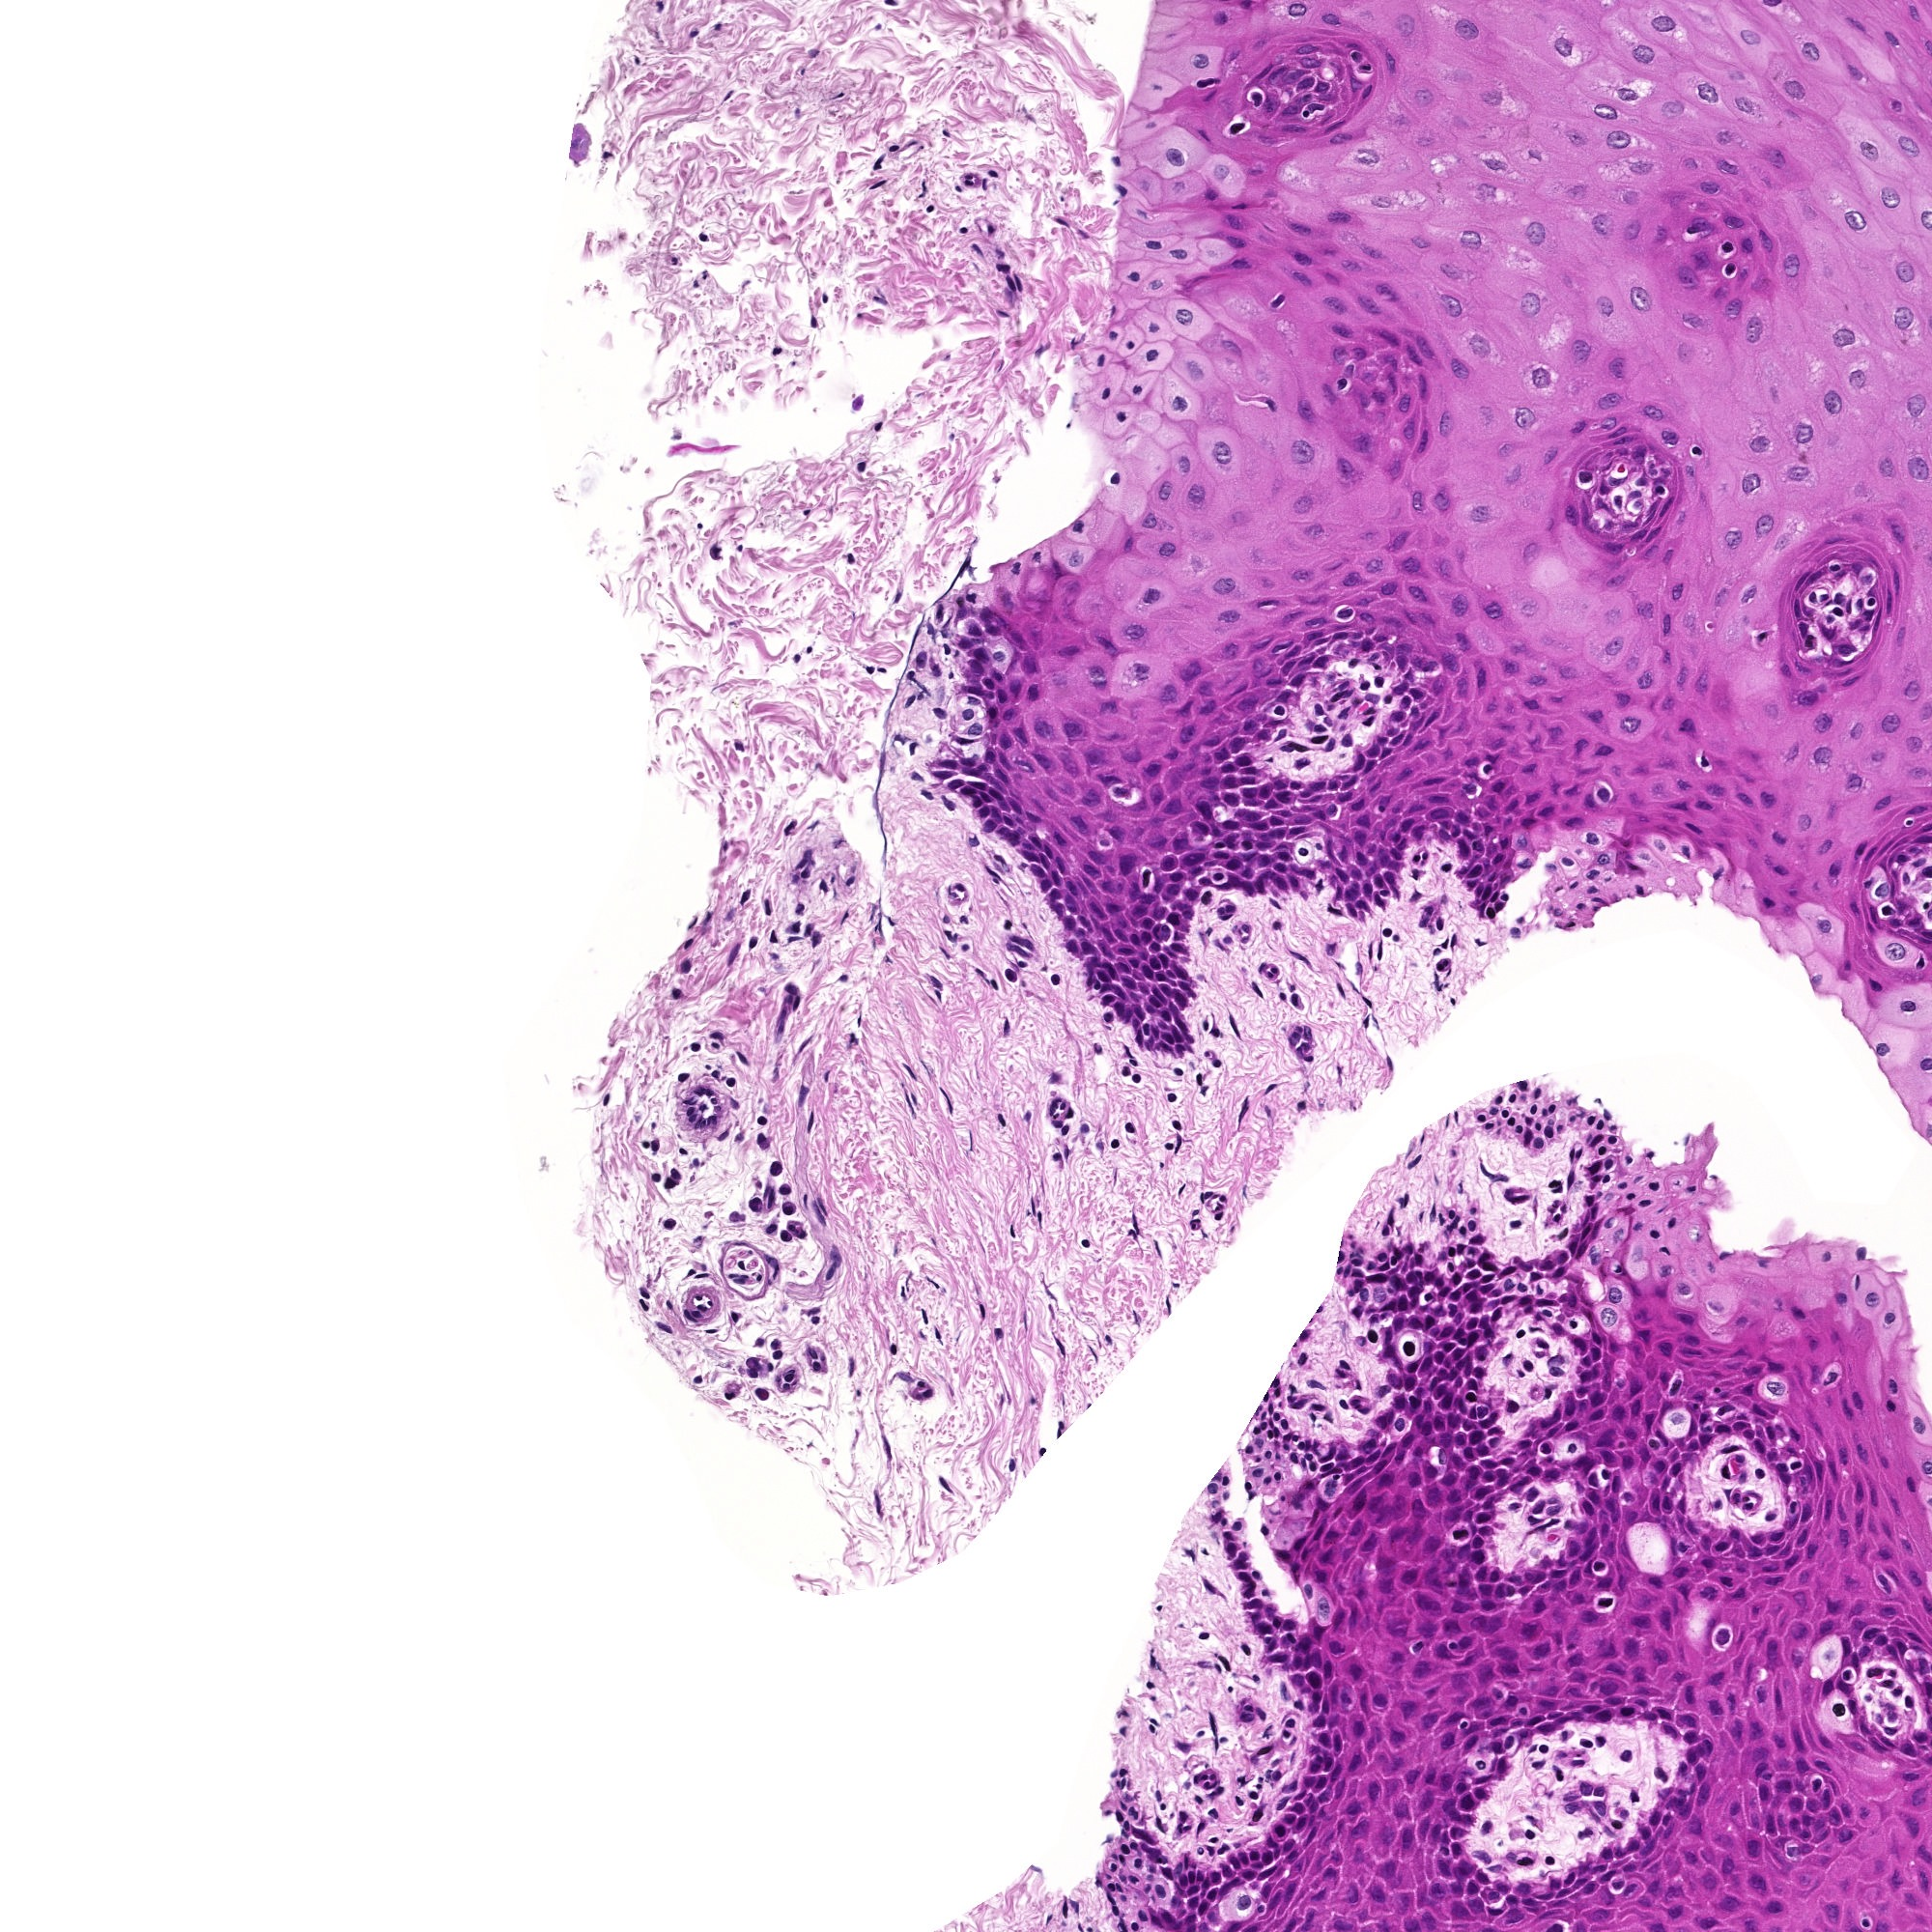epithelial: (1088, 869, 1093, 874), (1677, 807, 1684, 810), (1465, 28, 1468, 34), (1888, 598, 1891, 603), (1822, 754, 1826, 759), (1743, 798, 1746, 801), (1688, 724, 1691, 727), (1474, 872, 1479, 874), (1822, 720, 1824, 725), (1614, 644, 1615, 649), (1663, 23, 1665, 27), (1295, 226, 1299, 228), (1302, 258, 1304, 262), (1734, 219, 1736, 223), (1767, 242, 1769, 246), (1152, 244, 1155, 246), (1300, 449, 1302, 453), (1405, 402, 1407, 405), (1295, 649, 1297, 653), (1320, 658, 1323, 660), (1437, 796, 1438, 800), (1247, 793, 1251, 794), (1102, 975, 1104, 978), (1053, 893, 1056, 895), (1654, 1184, 1656, 1187), (1472, 1322, 1474, 1325), (1863, 1453, 1865, 1456), (1665, 1348, 1668, 1350), (1907, 1003, 1909, 1007), (1261, 73, 1263, 74), (1534, 235, 1536, 237), (1336, 304, 1338, 306), (1300, 506, 1302, 508), (1152, 594, 1154, 596), (1652, 533, 1654, 534), (1665, 504, 1667, 506), (1766, 522, 1767, 524), (1881, 801, 1882, 803), (1203, 828, 1205, 830), (1097, 909, 1099, 911), (1154, 1001, 1155, 1003), (1548, 1131, 1550, 1132), (1451, 1251, 1453, 1253), (1327, 1465, 1329, 1467), (1380, 1467, 1382, 1468), (1587, 1506, 1589, 1507), (1231, 1548, 1233, 1550), (1872, 1299, 1874, 1300), (1624, 699, 1626, 701)
fibroblast and endothelial: (1343, 1364, 1346, 1369), (1208, 1583, 1212, 1589), (962, 741, 970, 743), (1316, 706, 1320, 709), (1916, 860, 1920, 863), (828, 1272, 832, 1276), (1520, 1196, 1523, 1200), (810, 1120, 812, 1125), (1233, 1023, 1235, 1028), (1010, 281, 1012, 285), (1019, 281, 1021, 285), (915, 775, 916, 778), (948, 801, 950, 805), (973, 840, 975, 844), (752, 941, 754, 945), (959, 886, 961, 890), (1330, 909, 1334, 911), (1905, 878, 1907, 881), (1444, 943, 1445, 947), (681, 1077, 685, 1079), (801, 1093, 803, 1097), (1217, 1217, 1219, 1221), (1562, 1233, 1566, 1235), (1552, 1522, 1555, 1523), (1297, 1405, 1299, 1408), (1362, 1410, 1366, 1412), (876, 184, 878, 186), (1062, 221, 1063, 223), (791, 938, 793, 939), (1224, 916, 1226, 918), (1318, 740, 1320, 741), (1380, 954, 1382, 955), (1215, 1033, 1217, 1035), (909, 1070, 911, 1072), (1269, 1088, 1270, 1090), (1157, 1249, 1159, 1251), (1484, 1171, 1486, 1173), (1548, 1392, 1550, 1394), (1534, 1520, 1536, 1522), (941, 1483, 943, 1484), (1212, 1723, 1214, 1725)
inflammatory: (1008, 973, 1012, 978), (1511, 1405, 1514, 1410), (1583, 1741, 1589, 1744), (1203, 895, 1207, 899), (1440, 964, 1444, 968), (1384, 1230, 1387, 1233), (732, 1316, 736, 1320), (752, 1373, 755, 1376), (1407, 1348, 1412, 1350), (1484, 1826, 1486, 1831), (775, 350, 778, 352), (920, 656, 922, 660), (676, 991, 678, 994), (655, 1146, 656, 1150), (1293, 998, 1295, 1001), (1545, 1447, 1546, 1451), (1276, 1775, 1277, 1778), (1445, 865, 1447, 869), (786, 1378, 789, 1380), (1759, 1472, 1760, 1476), (1624, 1755, 1628, 1757), (1256, 1813, 1258, 1817), (860, 465, 862, 469), (1527, 1362, 1529, 1366), (784, 1189, 786, 1191), (770, 1228, 771, 1230), (784, 1237, 786, 1238), (1276, 925, 1277, 927), (727, 1396, 729, 1398)
lymphocyte: (1836, 1706, 1840, 1713), (1203, 81, 1207, 85), (1836, 610, 1840, 614), (1277, 708, 1281, 711), (777, 1352, 778, 1359), (1605, 1601, 1608, 1605), (962, 228, 964, 234), (1146, 876, 1148, 881), (1198, 1077, 1200, 1083), (1378, 681, 1380, 685), (1362, 685, 1364, 688), (807, 649, 810, 651), (1177, 1072, 1180, 1074), (1458, 1532, 1461, 1534), (1794, 1465, 1798, 1467), (1507, 1741, 1509, 1744), (1463, 1723, 1465, 1727), (1256, 97, 1258, 99), (1341, 380, 1343, 382), (1760, 635, 1762, 637), (1660, 488, 1661, 490), (1583, 476, 1585, 478), (1343, 614, 1345, 616), (1394, 938, 1396, 939), (1909, 821, 1911, 823), (1428, 1295, 1430, 1297), (1545, 1748, 1546, 1750), (1200, 1851, 1201, 1852)
